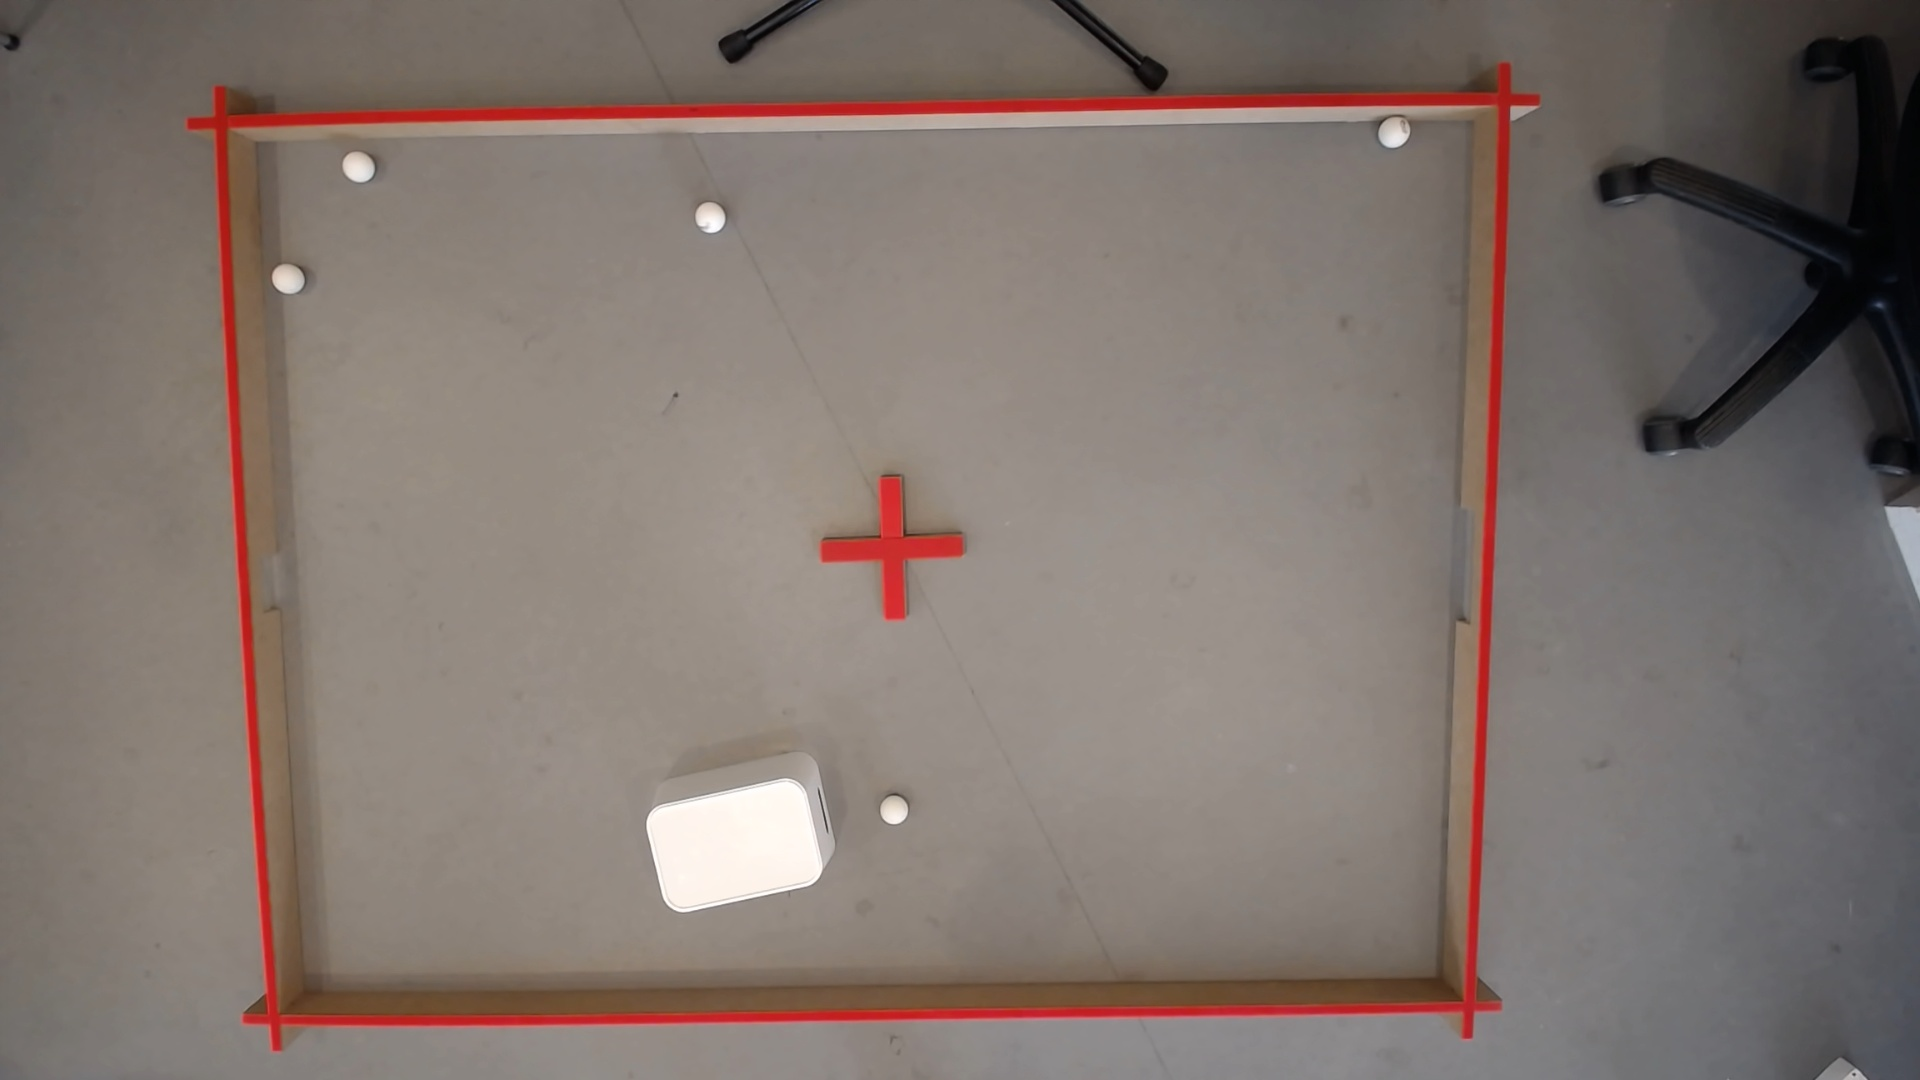balls: (338, 150, 376, 186), (690, 202, 728, 237), (269, 262, 303, 298), (1377, 119, 1408, 152)
car: (877, 796, 910, 828)
